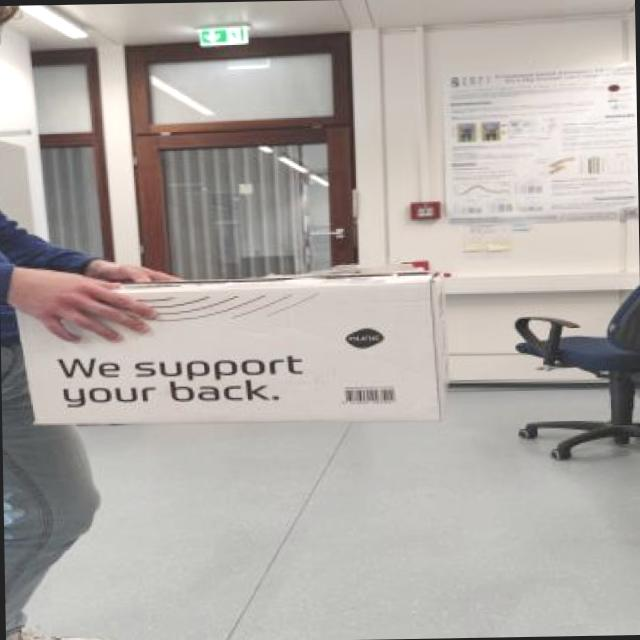box: (1, 230, 458, 454)
